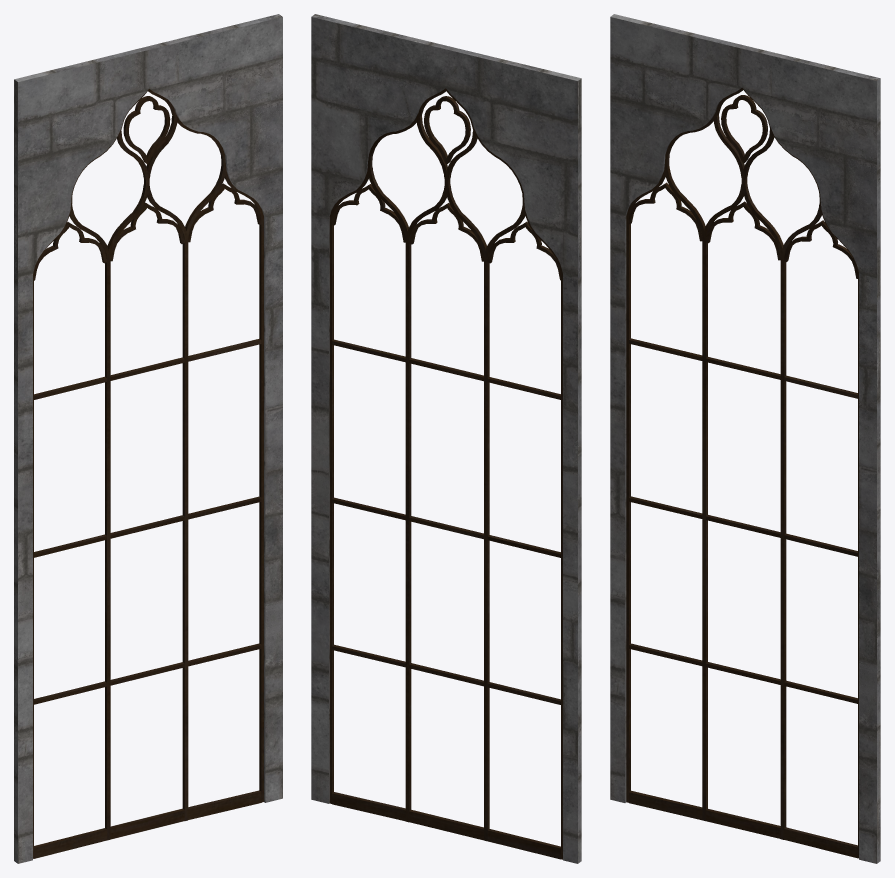
The model's file is Ściana1.fbx.
3 views of the same model, side by side, from view 1: azimuth 30°, elevation 25°; view 2: azimuth 150°, elevation 25°; view 3: azimuth 330°, elevation 25° (orthographic).
Visible parts, largest first — view 1: Cube.004; view 2: Cube.004; view 3: Cube.004.
Boxes of the visible parts, box(x1,y1,x2,y2) form: Cube.004: box(14, 14, 282, 863); Cube.004: box(311, 14, 581, 863); Cube.004: box(610, 14, 880, 863).
Bounding box in the file's own units: 369 × 1037 × 11.27.
